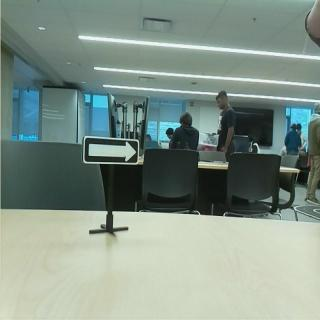sign_oneway_right: (83, 136, 141, 168)
